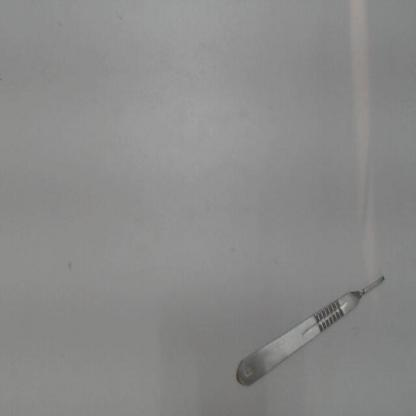No.3 BP Handle: (225, 264, 394, 394)
